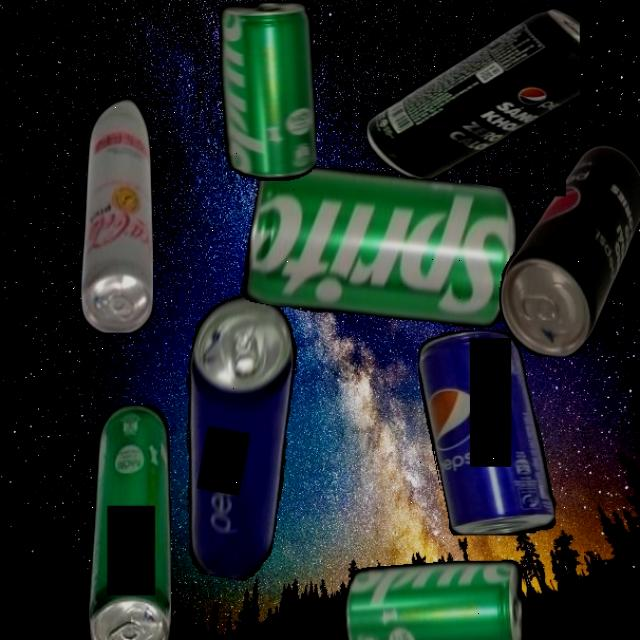debris: (239, 147, 527, 345), (154, 289, 314, 584), (366, 8, 580, 178), (498, 144, 640, 357), (418, 330, 556, 536), (87, 403, 171, 640), (217, 1, 317, 181), (80, 96, 153, 333), (342, 558, 522, 640)
